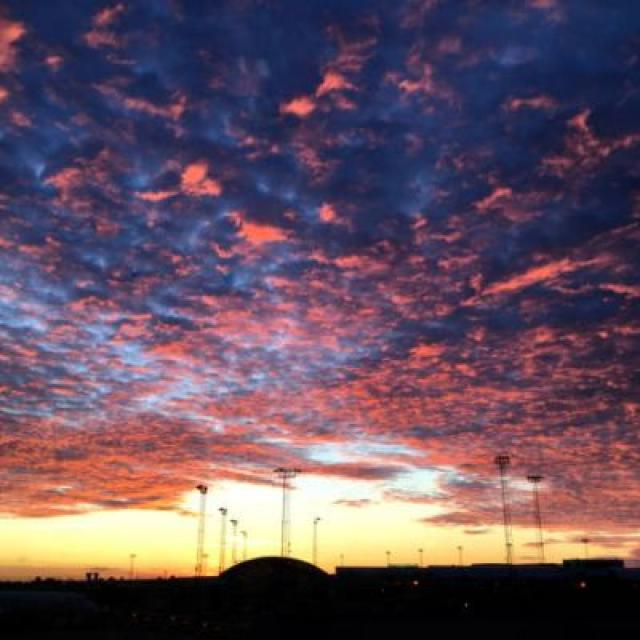Cc: (1, 4, 640, 444)
